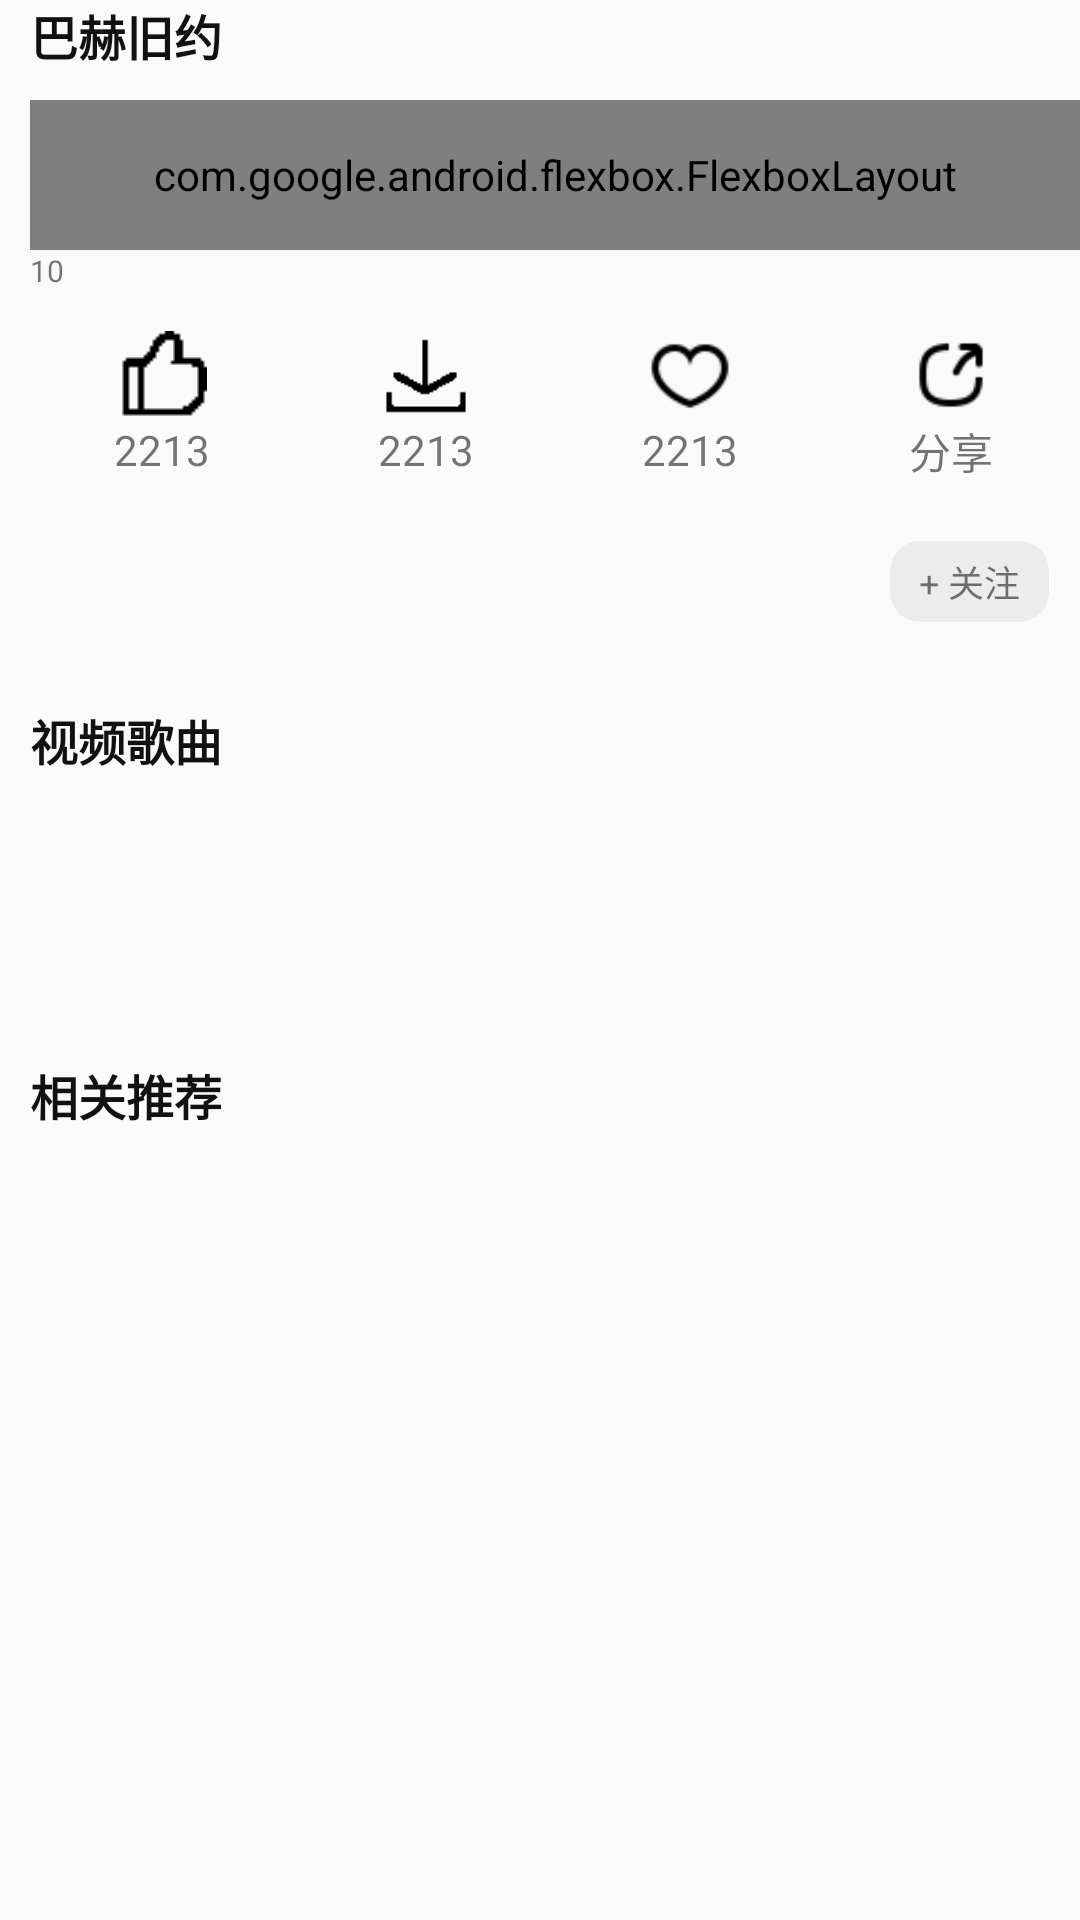

Locate icon controls on the screen. Image size 1080px×1920px, boxes as (x1, y1, x2, y2).
download: (386, 339, 466, 413)
ungreat: (122, 331, 207, 416)
unlike: (651, 344, 729, 408)
